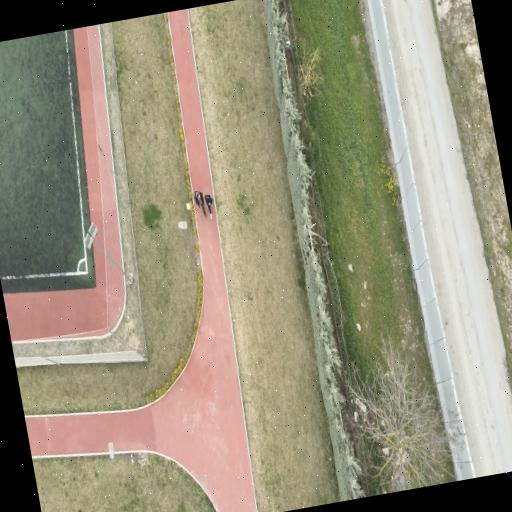person: (193, 191, 205, 217), (204, 194, 212, 218)
